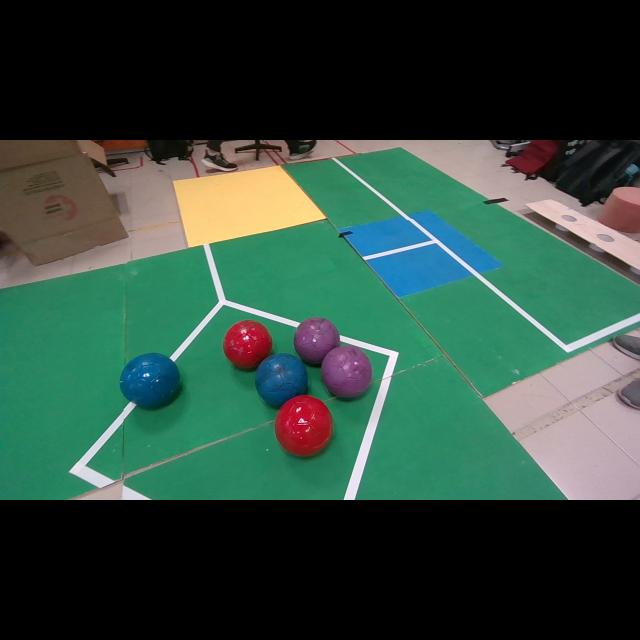B: (120, 352, 180, 408), (255, 352, 308, 408)
P: (321, 346, 372, 398), (294, 318, 340, 364)
R: (275, 395, 334, 456), (222, 320, 272, 369)
